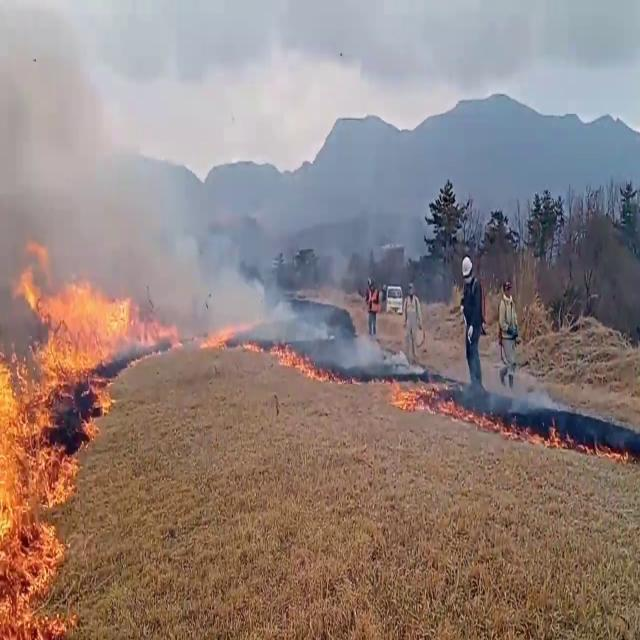Fire: (0, 247, 120, 613), (9, 255, 178, 352), (272, 332, 328, 379), (197, 314, 239, 354)
Smoke: (0, 2, 273, 354)
